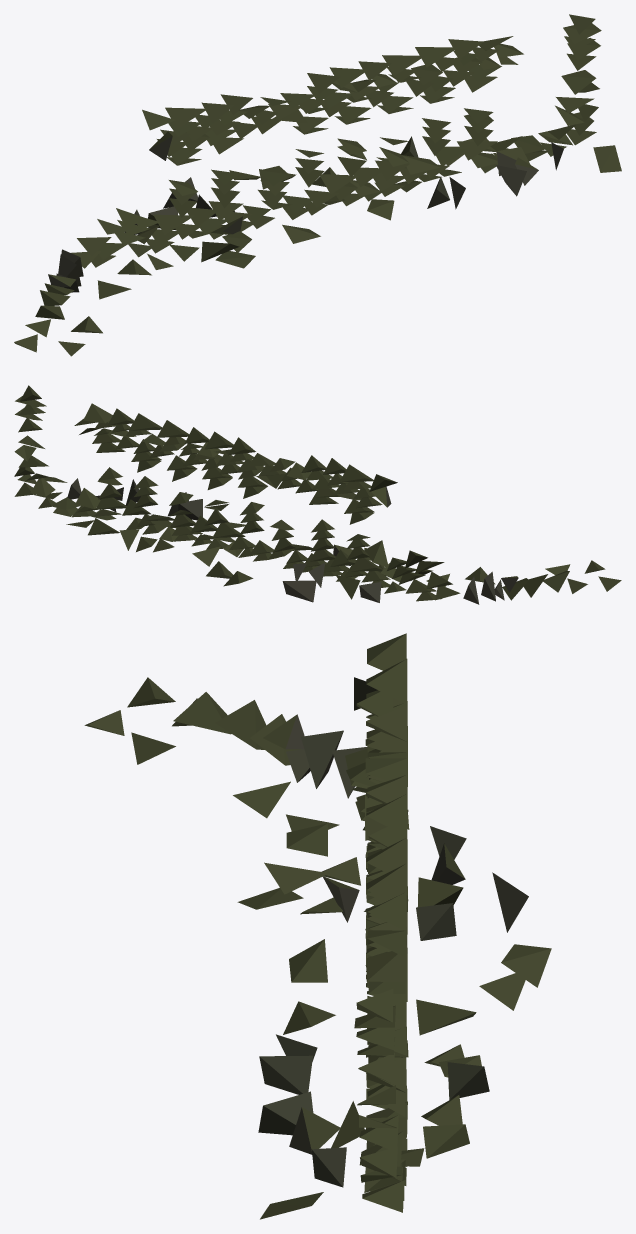
The model's file is abbey-ruins.far-facades-v1.lod2.glb.
The picture shows the model from 3 angles, top to bottom: view 1: azimuth 30°, elevation 25°; view 2: azimuth 150°, elevation 25°; view 3: azimuth 270°, elevation 25°; orthographic projection. The views are drawn at different scales.
Parts seen in each view (by area): view 1: abbey-ruins; view 2: abbey-ruins; view 3: abbey-ruins.
Part boxes in pixels (<box>): abbey-ruins: <box>14,14,621,356</box>; abbey-ruins: <box>14,385,621,604</box>; abbey-ruins: <box>84,633,551,1219</box>.
Size of the model in its own units: 43.91 by 8.88 by 16.28.
